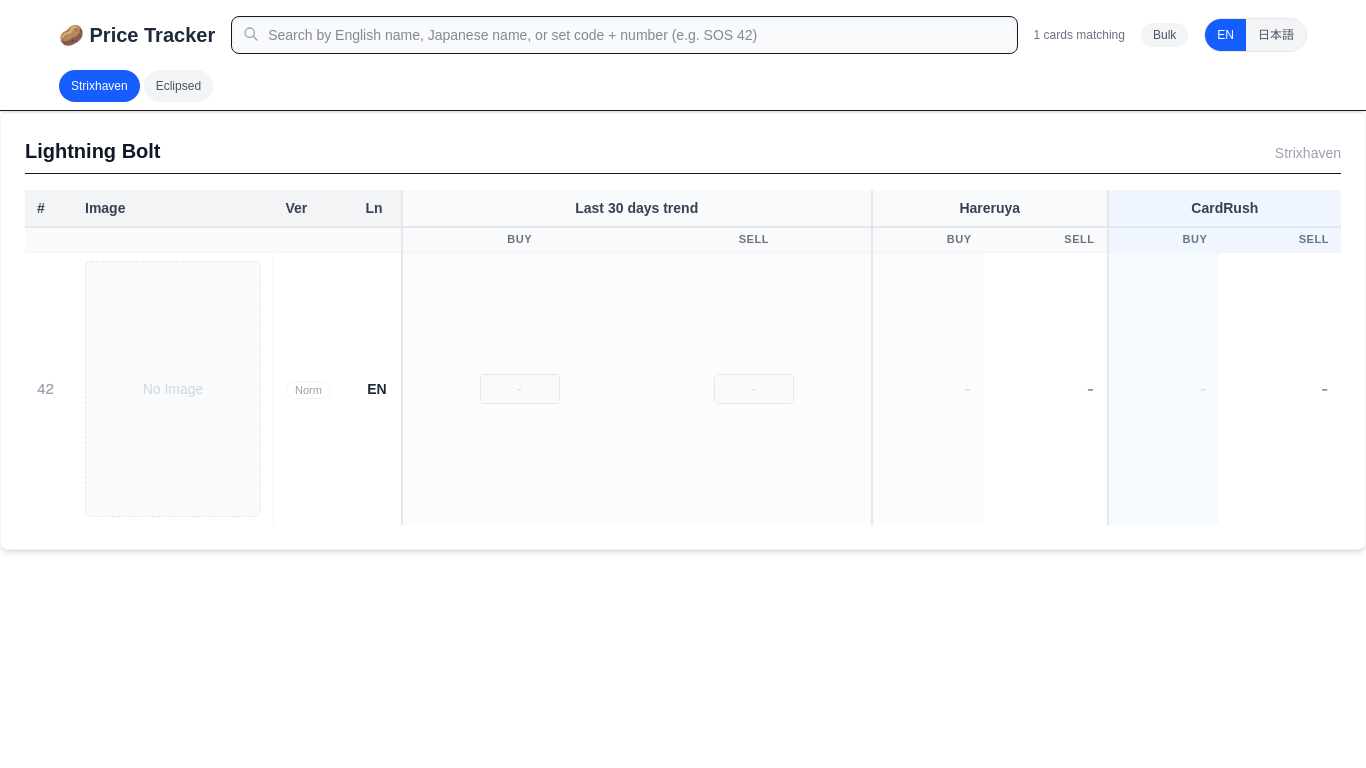
Scenario: CardList › hides card when search has no match
In the field: (624,35) [231,16,1018,54], type "nonexistent_card_xyz"
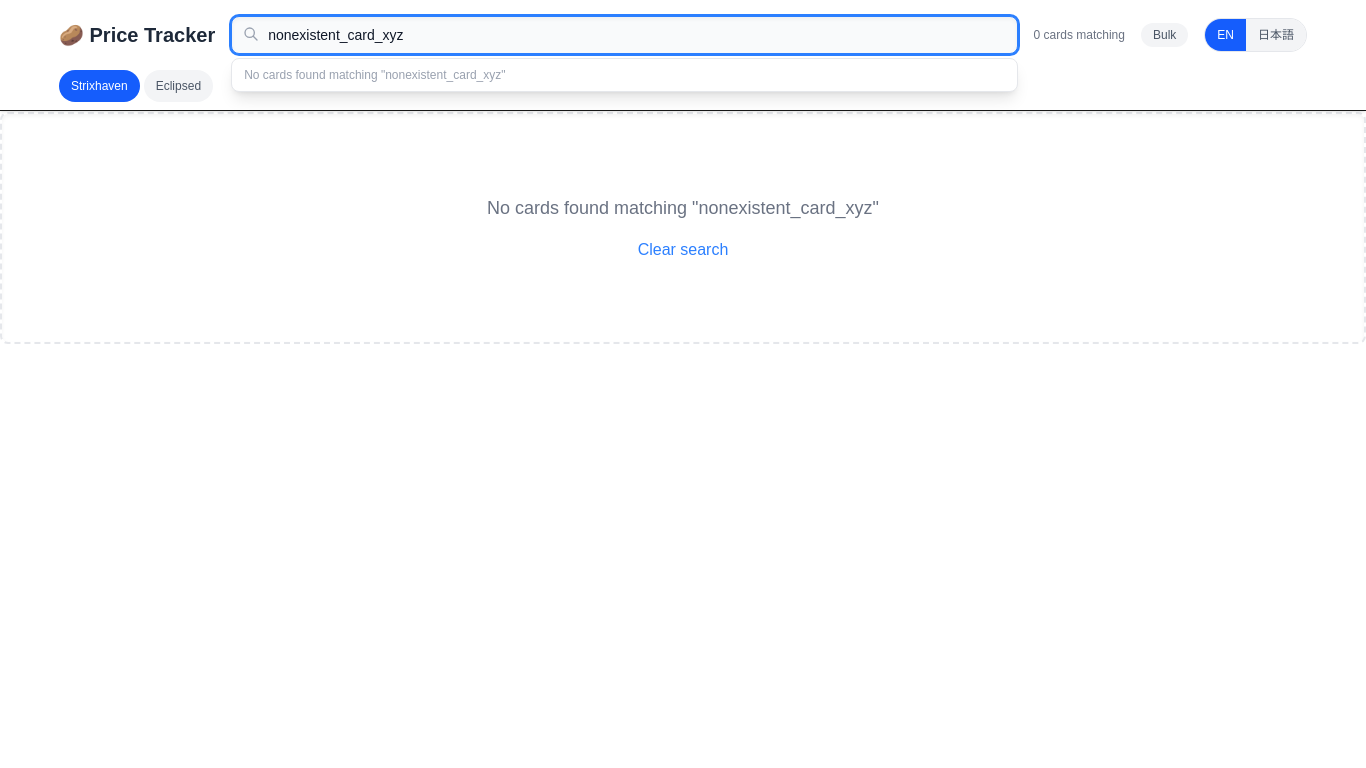
Result: the heading "Lightning Bolt" is gone
